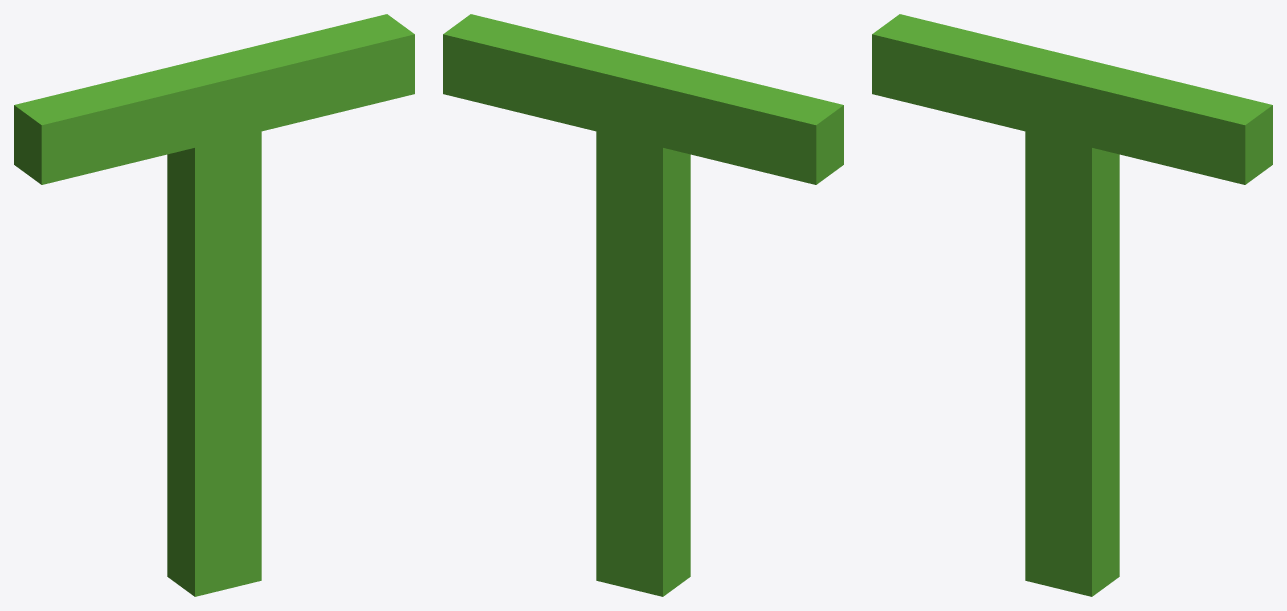
The model's file is letras.obj.
The picture shows the model from 3 angles, left to right: view 1: azimuth 30°, elevation 25°; view 2: azimuth 150°, elevation 25°; view 3: azimuth 330°, elevation 25°; orthographic projection.
Visible parts, largest first — view 1: T; view 2: T; view 3: T.
Part boxes in pixels (left/top/right/bottom): T: left=14, top=14, right=414, bottom=596; T: left=443, top=14, right=843, bottom=596; T: left=872, top=14, right=1272, bottom=596.
Size of the model in its own units: 0.777 by 1.01 by 0.1.
